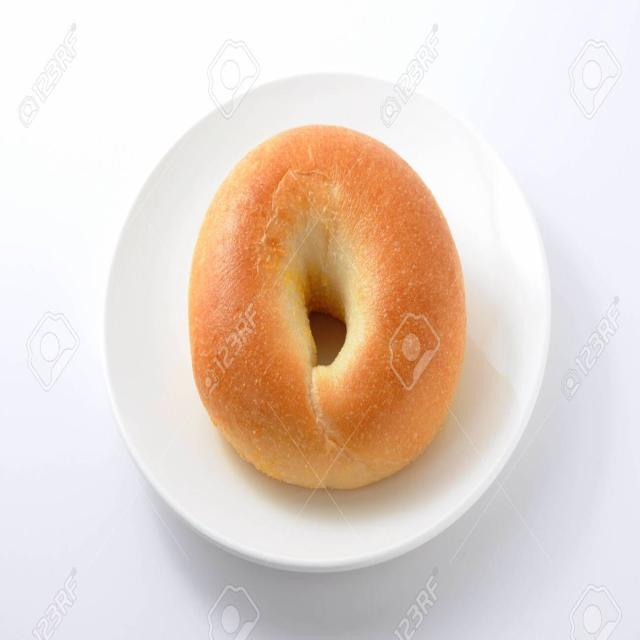Bagel: (189, 126, 466, 489)
